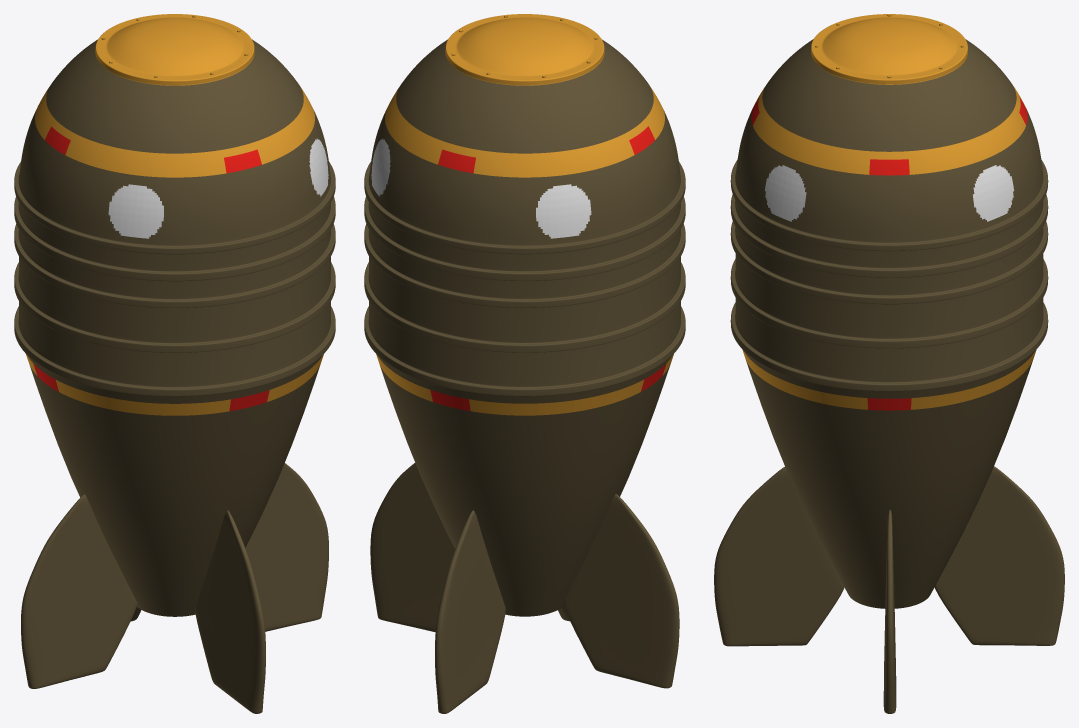
The model's file is Nuke.fbx.
The picture shows the model from 3 angles, left to right: view 1: azimuth 30°, elevation 25°; view 2: azimuth 150°, elevation 25°; view 3: azimuth 270°, elevation 25°; orthographic projection.
Parts seen in each view (by area): view 1: Body, Fins, radioactive-symbol; view 2: Body, Fins, radioactive-symbol; view 3: Body, Fins, radioactive-symbol.
Boxes of the visible parts, box(x1,y1,x2,y2) form: Body: box(14, 14, 335, 616); Fins: box(21, 463, 328, 713); radioactive-symbol: box(25, 133, 328, 238); Body: box(364, 14, 685, 616); Fins: box(370, 463, 679, 713); radioactive-symbol: box(371, 135, 673, 238); Body: box(730, 14, 1048, 608); Fins: box(714, 466, 1064, 713); radioactive-symbol: box(764, 165, 1014, 221).
Size of the model in its own units: 163 by 313 by 163.
